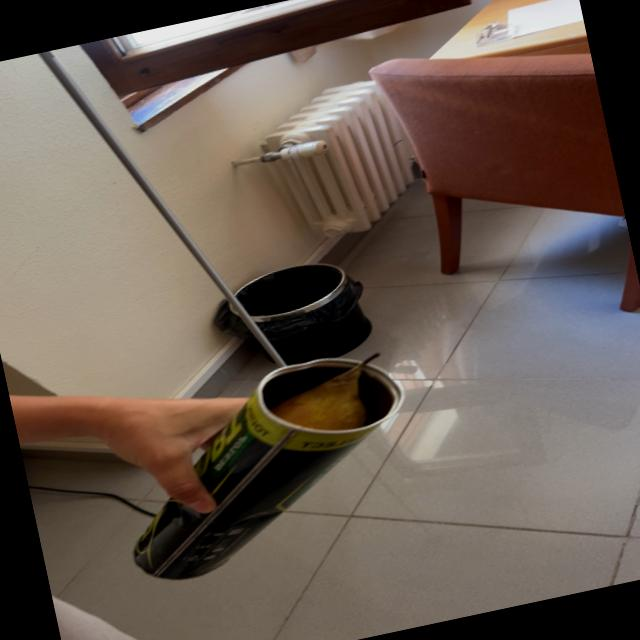pear: (272, 363, 366, 430)
